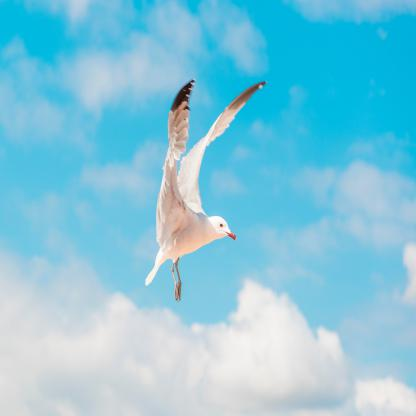bird: (144, 78, 268, 304)
